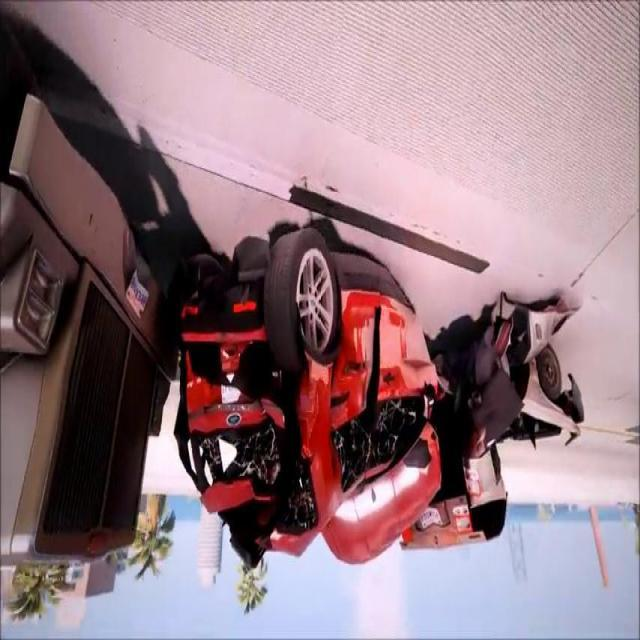severe: (0, 55, 598, 590)
